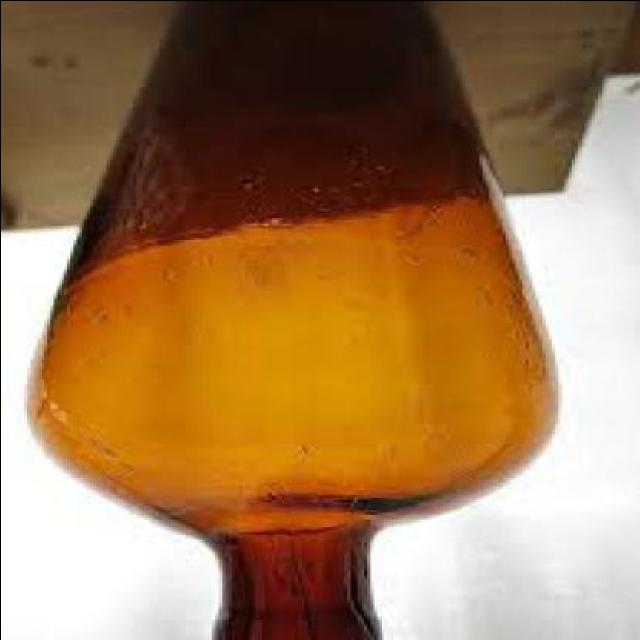kaca: (22, 2, 555, 640)
